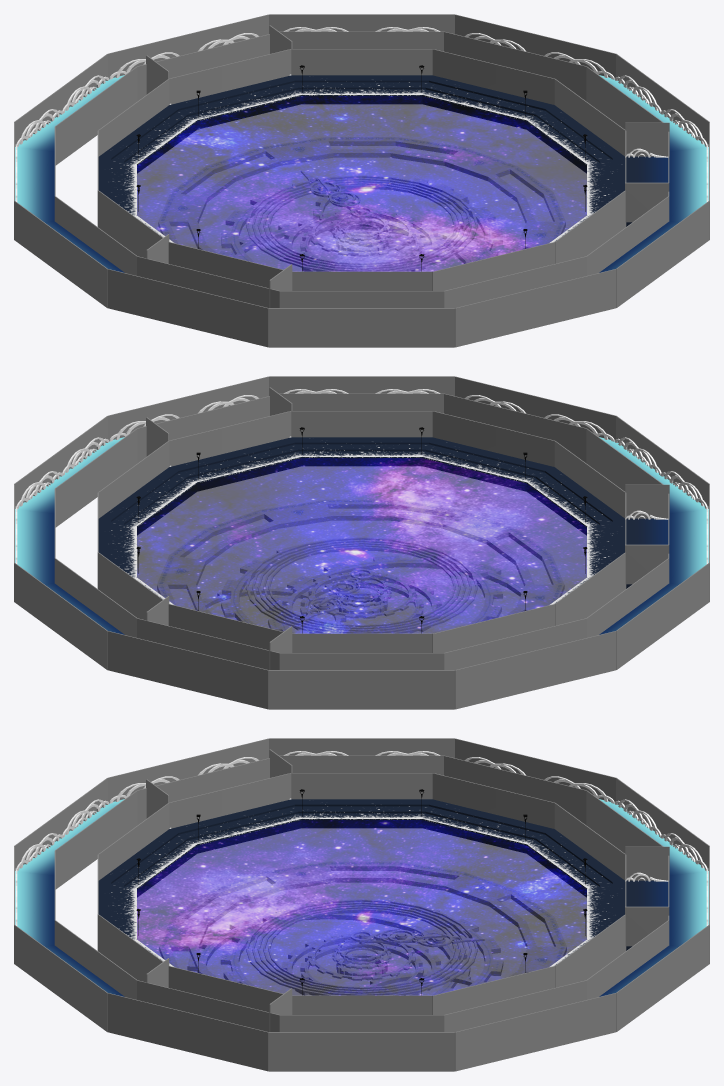
File: stage05_detach.FBX
3 views of the same model, one above another, from view 1: azimuth 30°, elevation 25°; view 2: azimuth 150°, elevation 25°; view 3: azimuth 270°, elevation 25° (orthographic).
Visible parts, largest first — view 1: Cylinder001, Wall01, Wall03, Wall02, Tooth, Stairs, Ground02, Wall04, fence, Bridge002; view 2: Cylinder001, Wall01, Wall03, Wall02, Tooth, Stairs, Ground02, Wall04, fence, Bridge003; view 3: Cylinder001, Wall01, Wall03, Wall02, Tooth, Stairs, Ground02, Wall04, fence, Bridge01, Needle_short.
Boxes of the visible parts, box(x1,y1,x2,y2) form: Cylinder001: box(137, 96, 586, 271); Wall01: box(14, 14, 709, 347); Wall03: box(97, 49, 626, 290); Wall02: box(54, 31, 669, 307); Tooth: box(158, 137, 565, 271); Stairs: box(98, 75, 625, 242); Ground02: box(15, 75, 708, 272); Wall04: box(146, 25, 669, 307); fence: box(15, 27, 708, 201); Bridge002: box(626, 156, 668, 226); Cylinder001: box(137, 458, 586, 633); Wall01: box(14, 376, 709, 709); Wall03: box(97, 411, 626, 652); Wall02: box(54, 393, 669, 669); Tooth: box(157, 500, 564, 633); Stairs: box(98, 437, 625, 604); Ground02: box(15, 437, 708, 634); Wall04: box(146, 387, 669, 669); fence: box(15, 389, 708, 563); Bridge003: box(626, 518, 668, 588); Cylinder001: box(137, 820, 586, 995); Wall01: box(14, 738, 709, 1071); Wall03: box(97, 773, 626, 1014); Wall02: box(54, 755, 669, 1031); Tooth: box(159, 862, 566, 995); Stairs: box(98, 799, 625, 966); Ground02: box(15, 799, 708, 996); Wall04: box(146, 749, 669, 1031); fence: box(15, 751, 708, 925); Bridge01: box(626, 880, 668, 950); Needle_short: box(365, 929, 446, 943).
Bounding box in the file's own units: 1458 × 252 × 1458.
